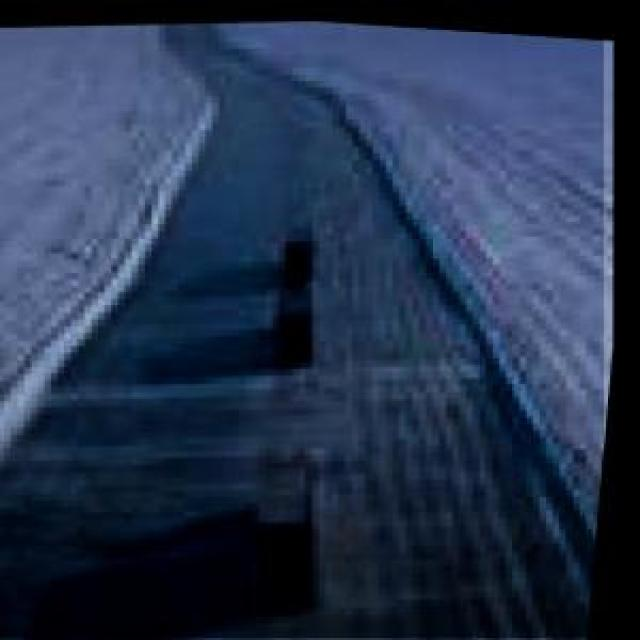ice-road: (0, 20, 604, 640)
